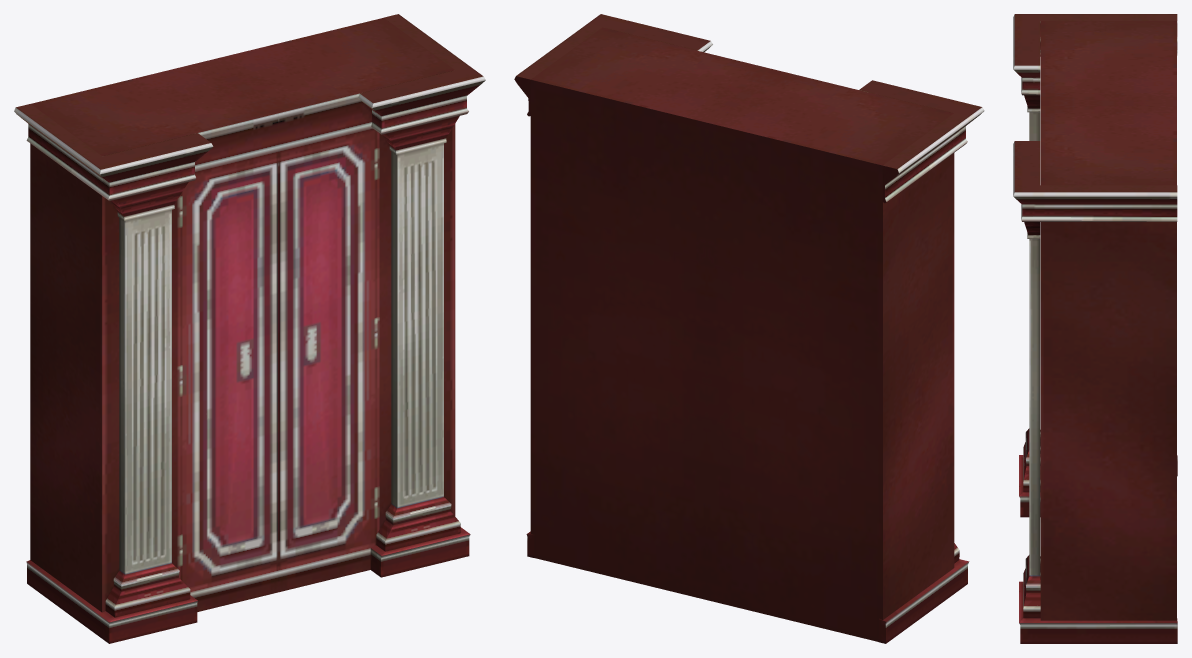
The model's file is furni_0201127_02.FBX.
3 renders of one model, left to right at view 1: azimuth 30°, elevation 25°; view 2: azimuth 150°, elevation 25°; view 3: azimuth 270°, elevation 25°, orthographic. The views are drawn at different scales.
Parts seen in each view (by area): view 1: furni_0201127_02; view 2: furni_0201127_02; view 3: furni_0201127_02.
Part boxes in pixels (x1,y1,x2,y2): furni_0201127_02: (14, 14, 485, 643); furni_0201127_02: (514, 14, 984, 643); furni_0201127_02: (1013, 14, 1177, 643).
Bounding box in the file's own units: 187 × 222 × 72.07.
1 material, 1 textured.
